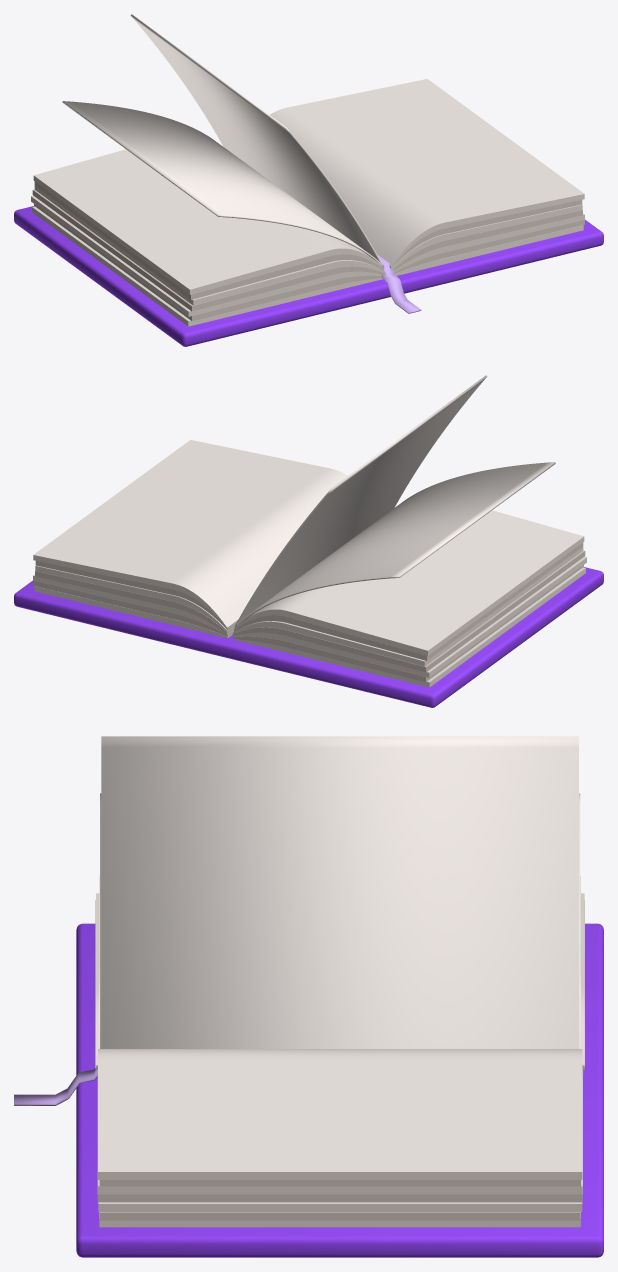
File: nella.glb
3 renders of one model, top to bottom at view 1: azimuth 30°, elevation 25°; view 2: azimuth 150°, elevation 25°; view 3: azimuth 270°, elevation 25°, orthographic. The views are drawn at different scales.
Parts seen in each view (by area): view 1: Pages_Right, Pages_Left, Cover, Leaf_Low, Leaf_High, Ribbon; view 2: Pages_Right, Pages_Left, Cover, Leaf_Low, Leaf_High; view 3: Leaf_High, Pages_Right, Cover, Pages_Left, Leaf_Low, Ribbon.
Boxes of the visible parts, x1,y1,x2,y2 form: Pages_Right: (270, 79, 584, 275); Pages_Left: (31, 149, 385, 326); Cover: (14, 206, 603, 346); Leaf_Low: (62, 101, 383, 267); Leaf_High: (130, 14, 383, 265); Ribbon: (377, 254, 421, 313); Pages_Right: (33, 440, 347, 638); Pages_Left: (232, 510, 586, 687); Cover: (14, 567, 603, 707); Leaf_Low: (234, 462, 555, 628); Leaf_High: (234, 375, 487, 626); Leaf_High: (101, 736, 578, 1048); Pages_Right: (97, 1049, 582, 1227); Cover: (76, 923, 603, 1257); Pages_Left: (95, 875, 584, 1074); Leaf_Low: (100, 793, 580, 1048); Ribbon: (14, 1066, 97, 1105).
Bounding box in the file's own units: 1.08 × 0.461 × 0.85.
